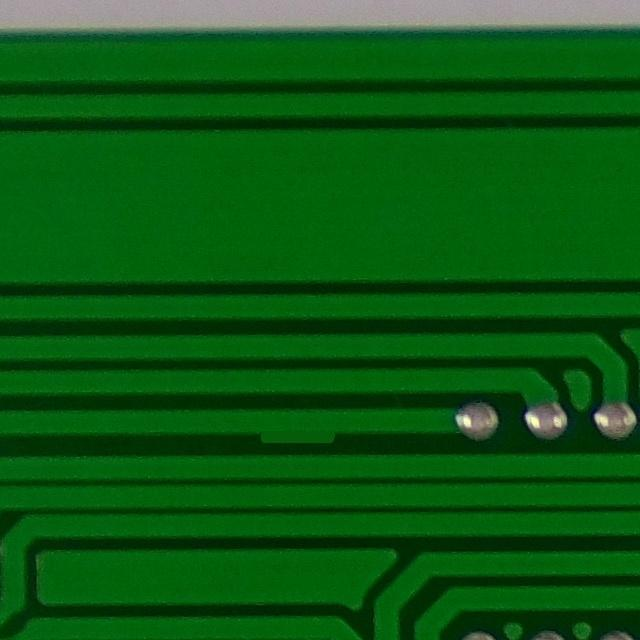spur: (238, 409, 353, 456)
